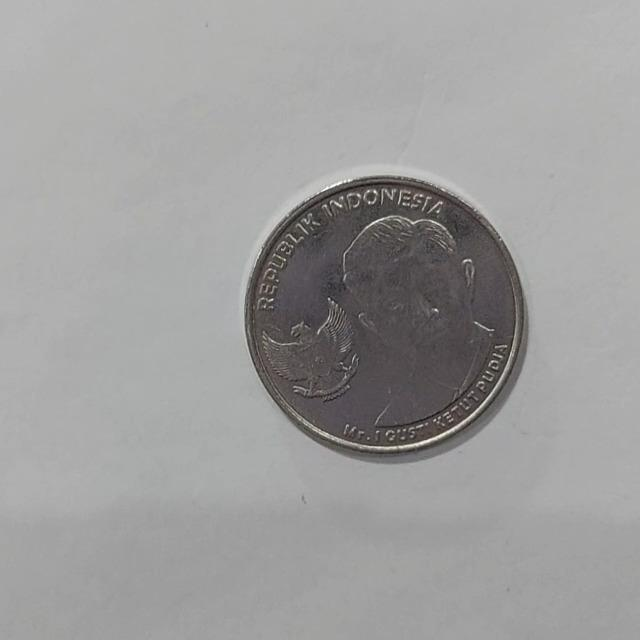Rp100: (243, 168, 527, 460)
